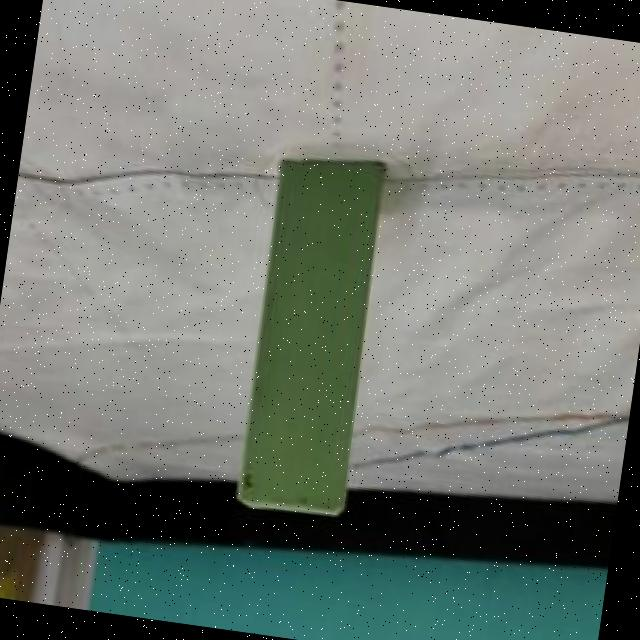greenbox: (234, 146, 391, 518)
